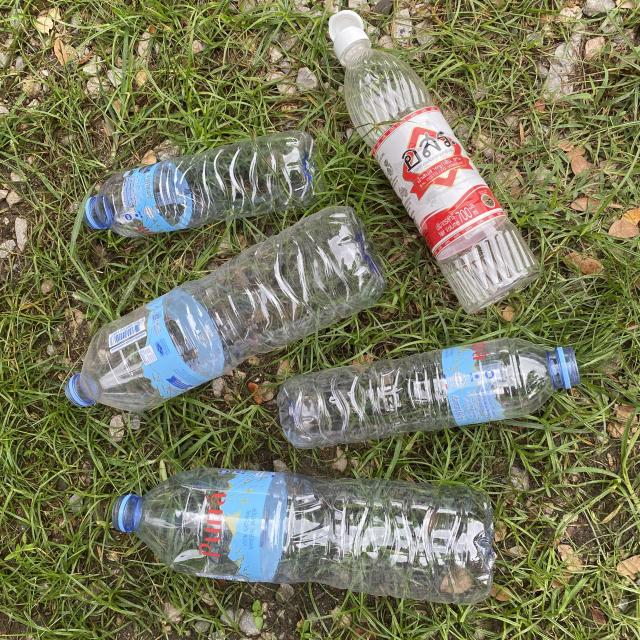plastik: (65, 206, 386, 411), (329, 11, 541, 312), (111, 469, 495, 604), (278, 338, 580, 449), (84, 131, 322, 238)
